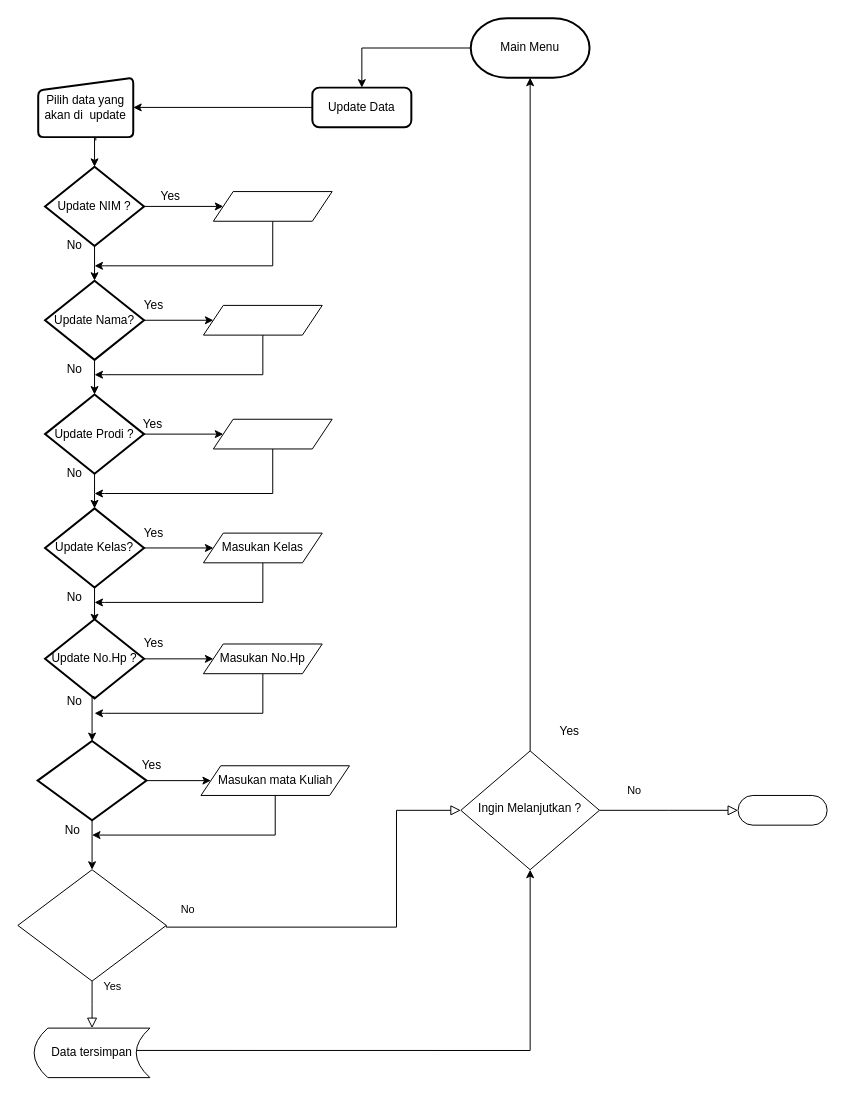
Some shapes in this 844 by 1095 pixel diagram are drawn without their labels. The shapes that lost their labels are listed below. From the top down, each one's centre as x and y in pixels, then its label:
At point (272, 206): "Masukan NIM".
At point (262, 319): "Masukan Nama".
At point (272, 433): "Masukan Prodi".
At point (91, 780): "Update Mata Kuliah?".
At point (782, 809): "Keluar".
At point (91, 925): "Update ?".
